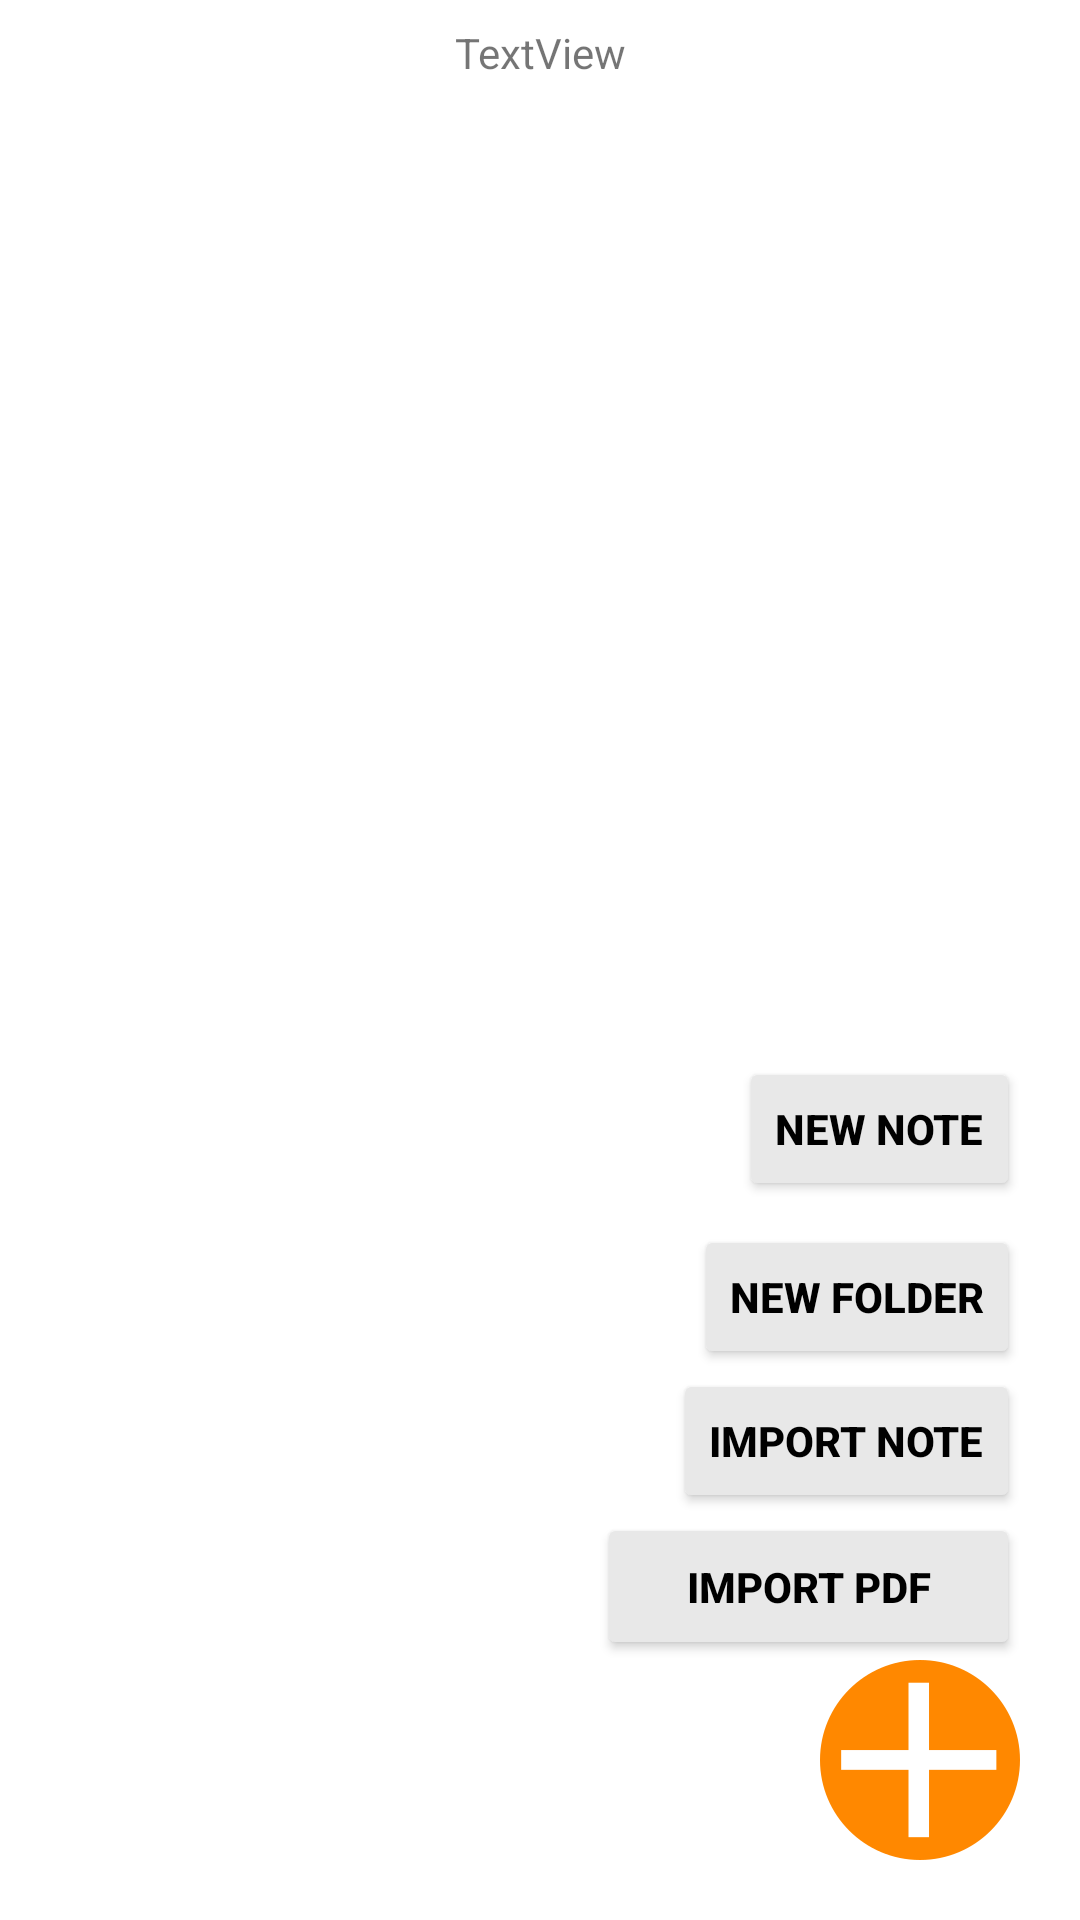

Icon click points for this 1080*1920 phone screenshot, format [x,y]:
addicon: [920,1760]
